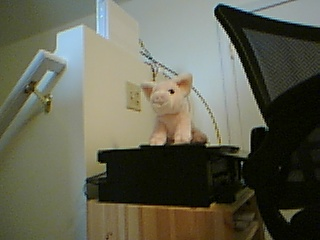piggy: (140, 72, 209, 146)
